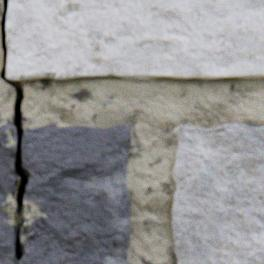brick: (6, 0, 263, 81), (171, 124, 263, 263)
broken_brick: (0, 125, 130, 263)
crack: (0, 0, 29, 261)
